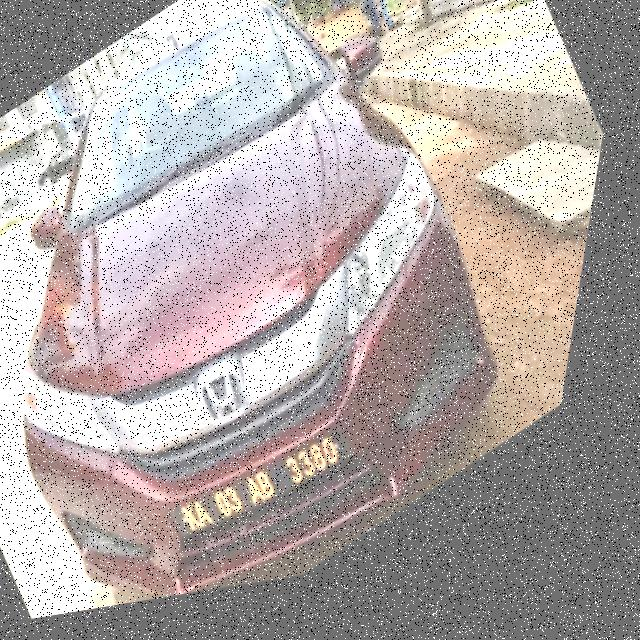license_plate: (180, 413, 378, 580)
